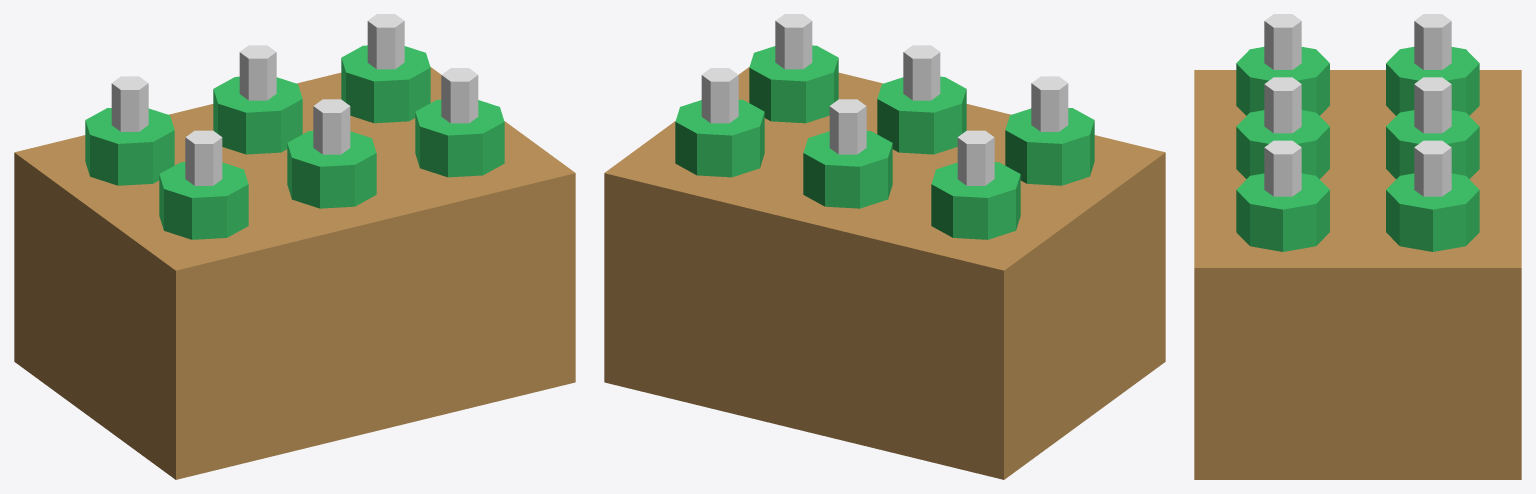
The model's file is carwash_shampoo_box.glb.
The picture shows the model from 3 angles, left to right: view 1: azimuth 30°, elevation 25°; view 2: azimuth 150°, elevation 25°; view 3: azimuth 270°, elevation 25°; orthographic projection.
Visible parts, largest first — view 1: box_shampoo_card, bottle_shampoo_green, cap_shampoo_cap (×6); view 2: box_shampoo_card, bottle_shampoo_green, cap_shampoo_cap (×6); view 3: box_shampoo_card, bottle_shampoo_green, cap_shampoo_cap (×6).
Part boxes in pixels (bbox=[...]): box_shampoo_card: bbox=[14, 67, 575, 479]; bottle_shampoo_green: bbox=[85, 45, 504, 239]; cap_shampoo_cap (×6): bbox=[111, 14, 478, 185]; box_shampoo_card: bbox=[604, 67, 1165, 479]; bottle_shampoo_green: bbox=[675, 45, 1094, 239]; cap_shampoo_cap (×6): bbox=[701, 14, 1068, 185]; box_shampoo_card: bbox=[1194, 70, 1521, 479]; bottle_shampoo_green: bbox=[1236, 47, 1479, 251]; cap_shampoo_cap (×6): bbox=[1264, 14, 1451, 196].
Size of the model in its own units: 0.5 by 0.35 by 0.35.
